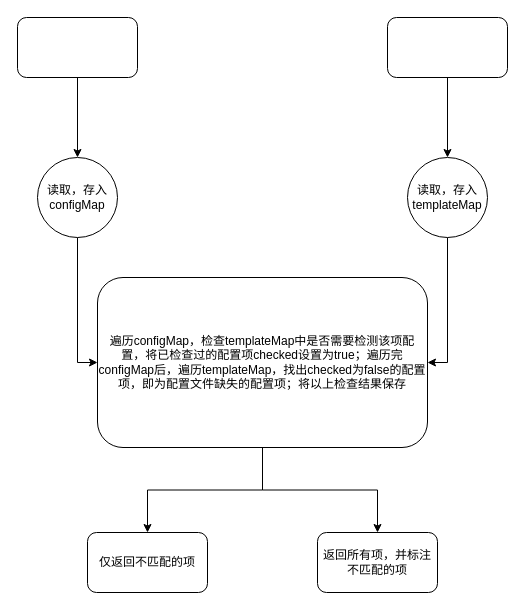
Some shapes in this 525 by 610 pixel diagram are drawn without their labels. The shapes that lost their labels are listed below. From the top down, each one's box as (x1, y1, x2, y2) in pixels, then its label:
(16, 16, 138, 78): 配置文件
(386, 16, 508, 78): 配置模板
